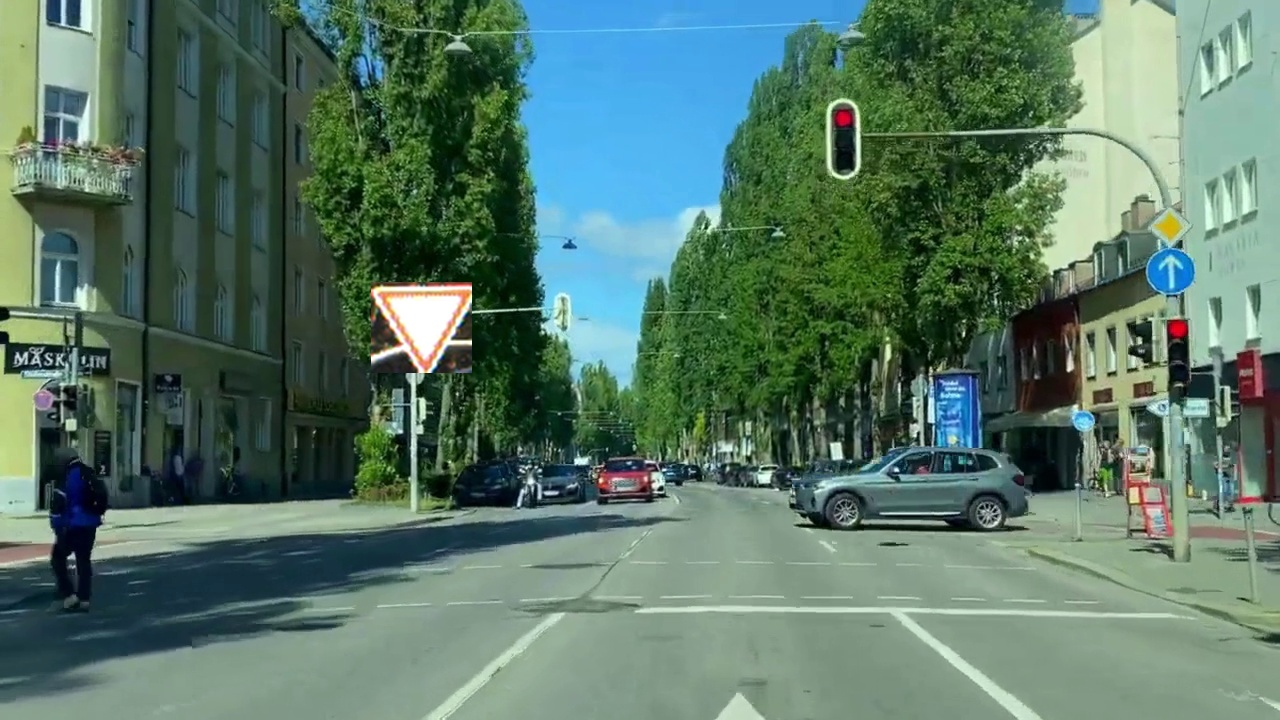Yield: (371, 282, 472, 373)
